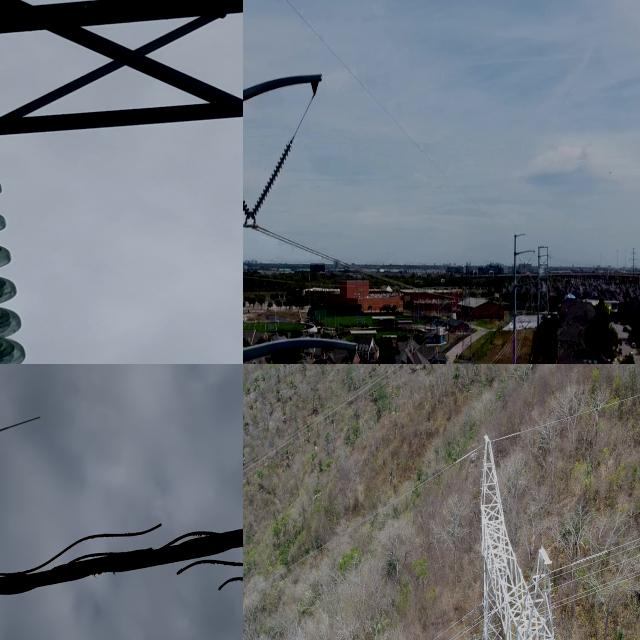杆塔: (468, 421, 580, 640)
正常绝缘子: (0, 129, 51, 364), (243, 127, 300, 235), (243, 188, 257, 228), (499, 608, 506, 640)
电缆破损: (0, 504, 243, 617)
